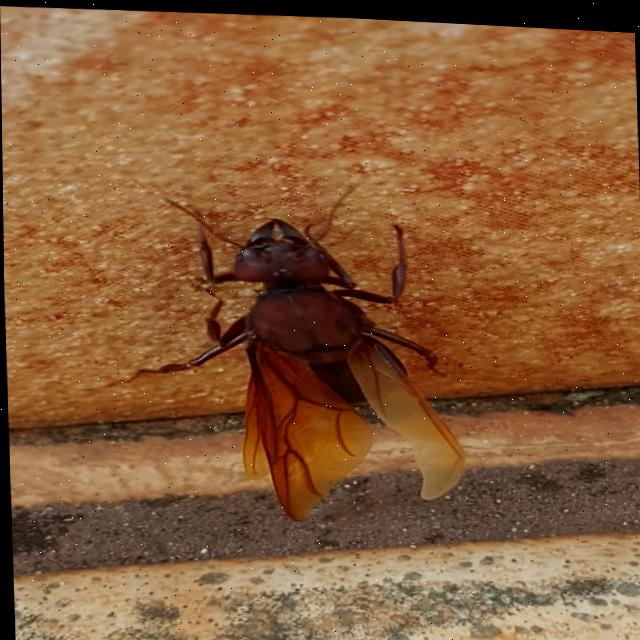Alive-Female-Alate: (69, 166, 468, 529)
